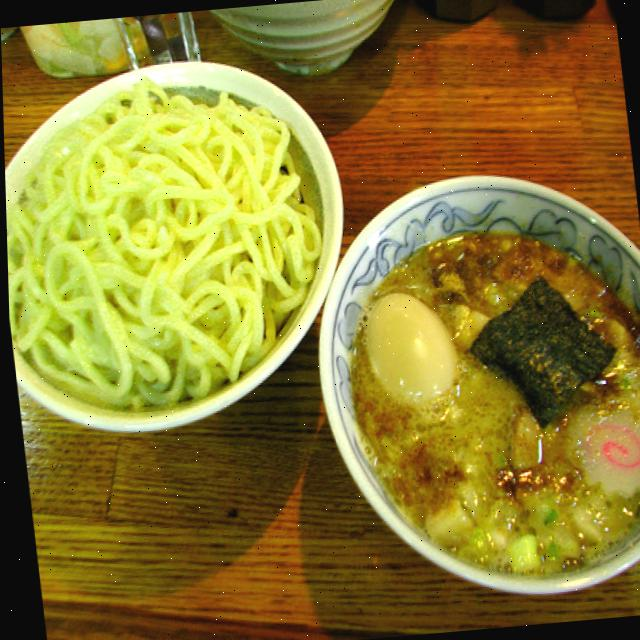面条主食: (1, 27, 640, 627)
